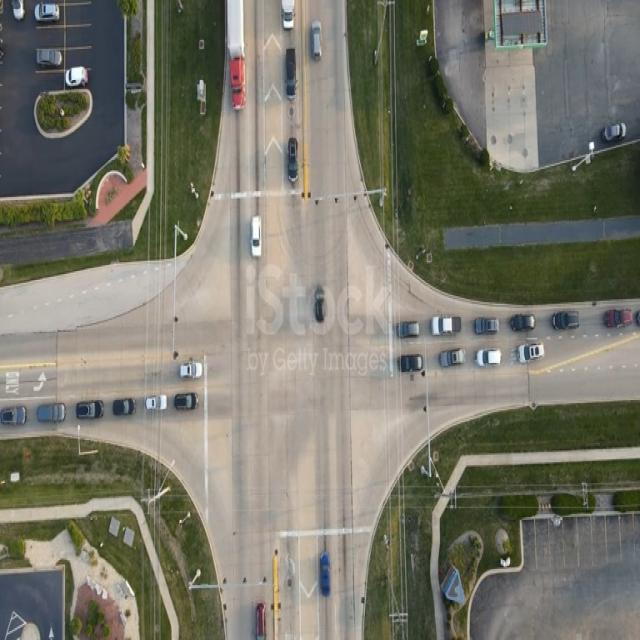car: (551, 312, 579, 333), (285, 48, 296, 100), (433, 316, 461, 336), (0, 408, 26, 429), (38, 404, 65, 424), (286, 140, 298, 184), (34, 2, 59, 22), (518, 345, 543, 364), (511, 314, 536, 333), (401, 355, 426, 374), (320, 554, 330, 597), (475, 318, 500, 335), (281, 0, 295, 30), (602, 124, 624, 143), (478, 349, 501, 367), (173, 393, 196, 411), (399, 321, 422, 339), (252, 216, 262, 257), (114, 401, 138, 418), (179, 361, 201, 379), (312, 22, 322, 61), (442, 351, 464, 368), (255, 604, 265, 640), (145, 395, 166, 411), (10, 0, 24, 21)
pickup-truck: (37, 49, 65, 70)
